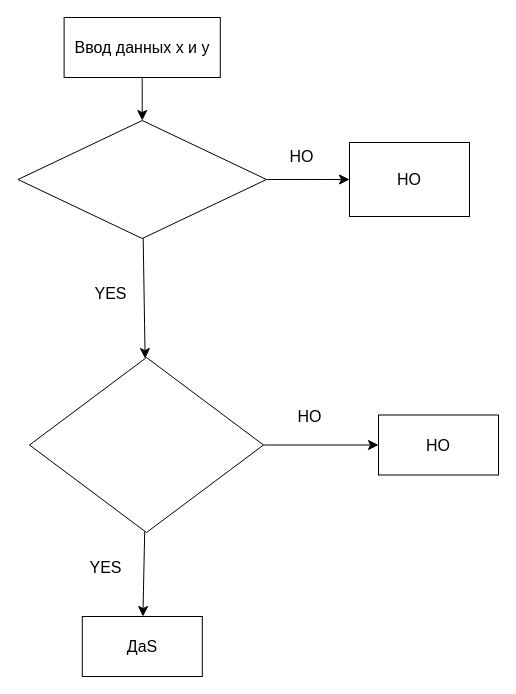
Image size: 516x694. Some labels were removed from this diagram. Here are the shapes that lost their labels. From the top down, the box of each, then its label:
(17, 120, 266, 238): х и у от 1 до 10000 и х <= у
(28, 356, 264, 532): y % (y - (x - 1)) == 0
